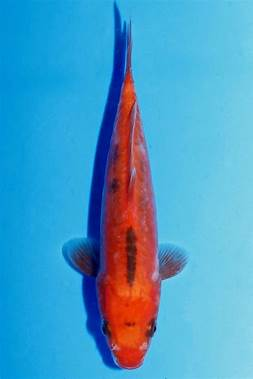red: (63, 21, 187, 370)
